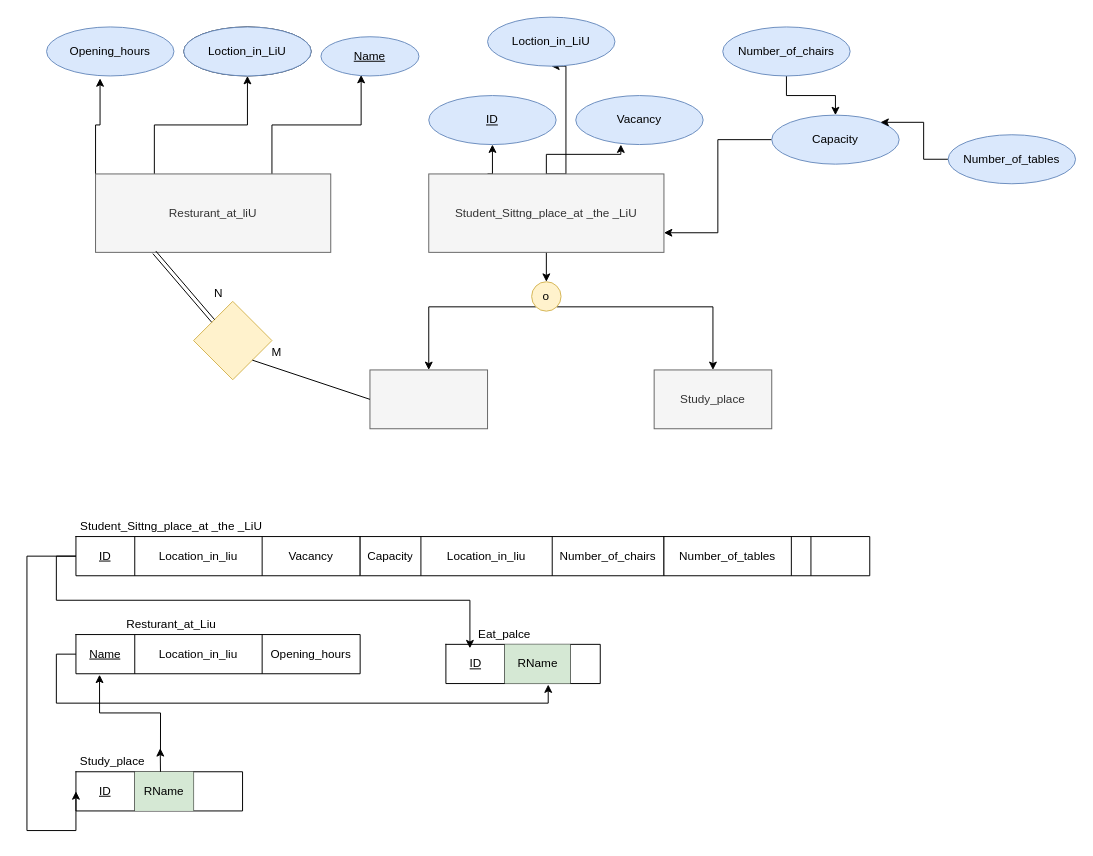
The diagram is 1093 pixels wide and 856 high, and some of its shapes have lost their labels. The shapes that lost their labels are listed below. From the top down, each one's centre as x and y in pixels, then its label:
the point at 232,340: Belong
the point at 428,399: Eat_place
